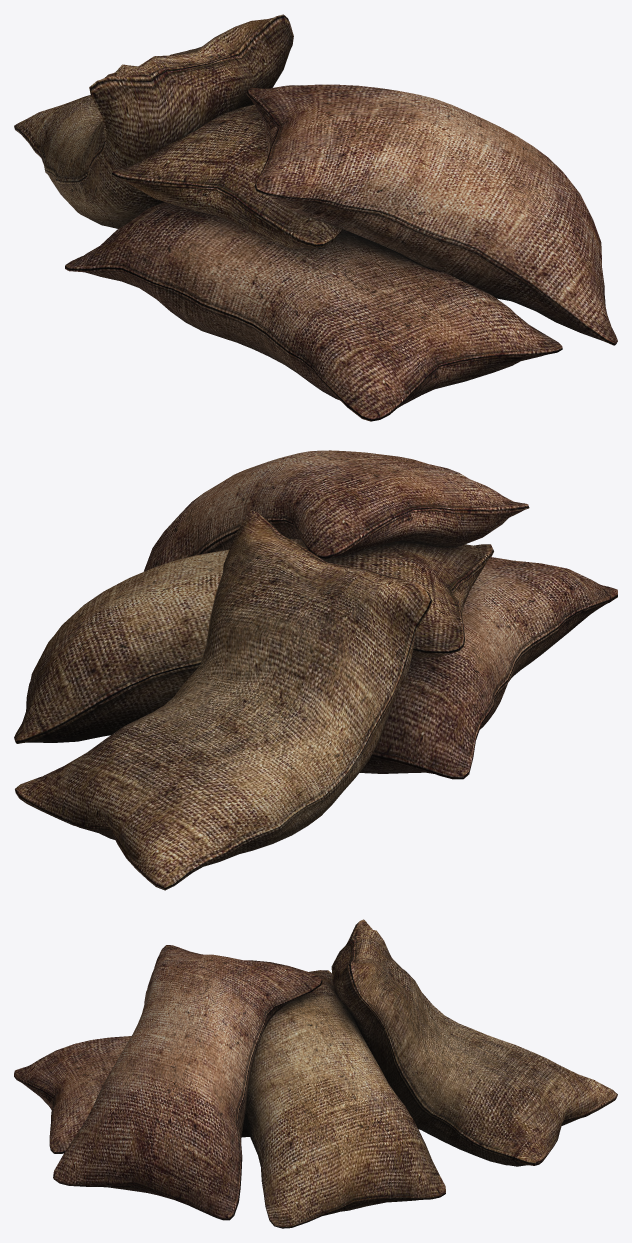
The model's file is bags.fbx.
3 renders of one model, top to bottom at view 1: azimuth 30°, elevation 25°; view 2: azimuth 150°, elevation 25°; view 3: azimuth 270°, elevation 25°, orthographic. The views are drawn at different scales.
Visible parts, largest first — view 1: prim0.002, prim0.001; view 2: prim0.001, prim0.002; view 3: prim0.001, prim0.002.
Part boxes in pixels (x1,y1,x2,y2): prim0.002: (65, 84, 617, 421); prim0.001: (14, 14, 343, 249); prim0.001: (14, 510, 493, 890); prim0.002: (143, 450, 617, 779); prim0.001: (243, 919, 617, 1228); prim0.002: (14, 945, 322, 1220).
Bounding box in the file's own units: 115 × 57.34 × 175.
